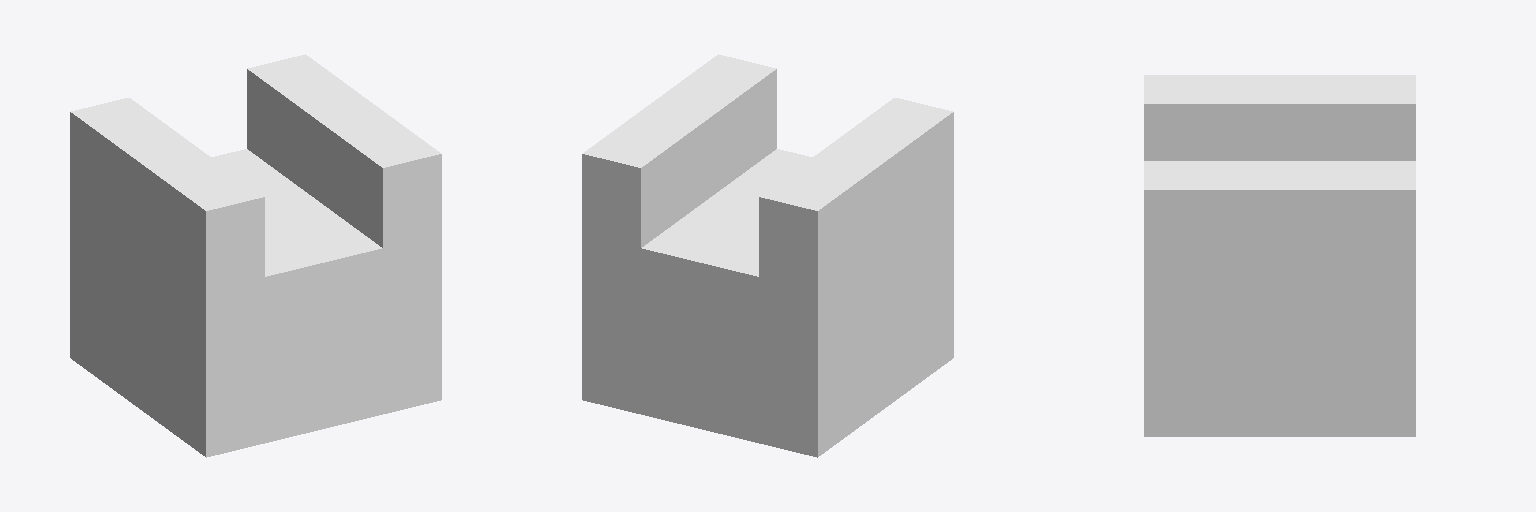
Rendered from Rabbit.obj.
The picture shows the model from 3 angles: view 1: azimuth 30°, elevation 25°; view 2: azimuth 150°, elevation 25°; view 3: azimuth 270°, elevation 25°; orthographic projection.
Parts seen in each view (by area): view 1: Rabbit; view 2: Rabbit; view 3: Rabbit.
Part boxes in pixels (x1,y1,x2,y2): Rabbit: (70,54,441,457); Rabbit: (582,54,953,457); Rabbit: (1144,75,1415,436).
Size of the model in its own units: 40 by 40 by 40.